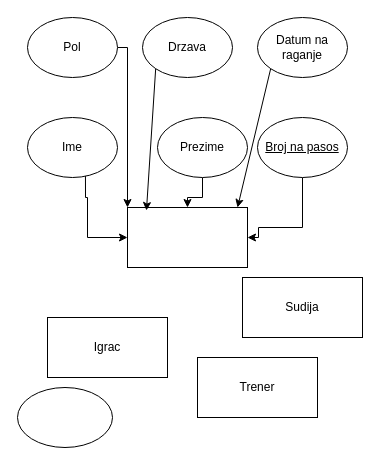
The diagram is 380 pixels wide and 465 high, and some of its shapes have lost their labels. Here are the shapes that lost their labels. From the top down, the box of each, then its label:
(126, 206, 248, 268): Ucesnik
(16, 386, 112, 448): Godina koga zapocnale so tenis
